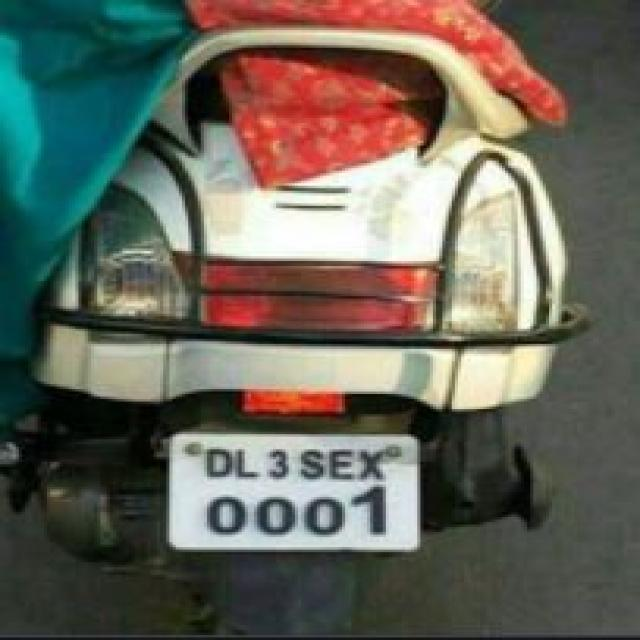number plate: (163, 427, 424, 552)
